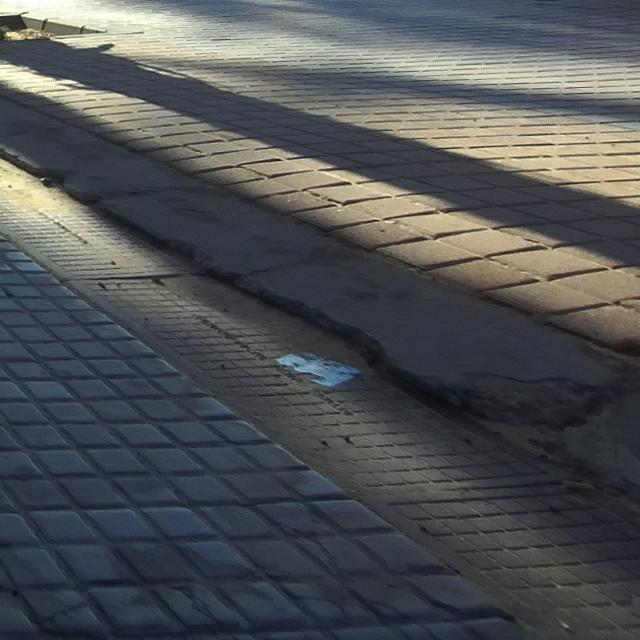calcada_quebrada: (292, 588, 433, 640), (268, 518, 343, 578), (175, 584, 222, 626), (37, 597, 93, 625)
